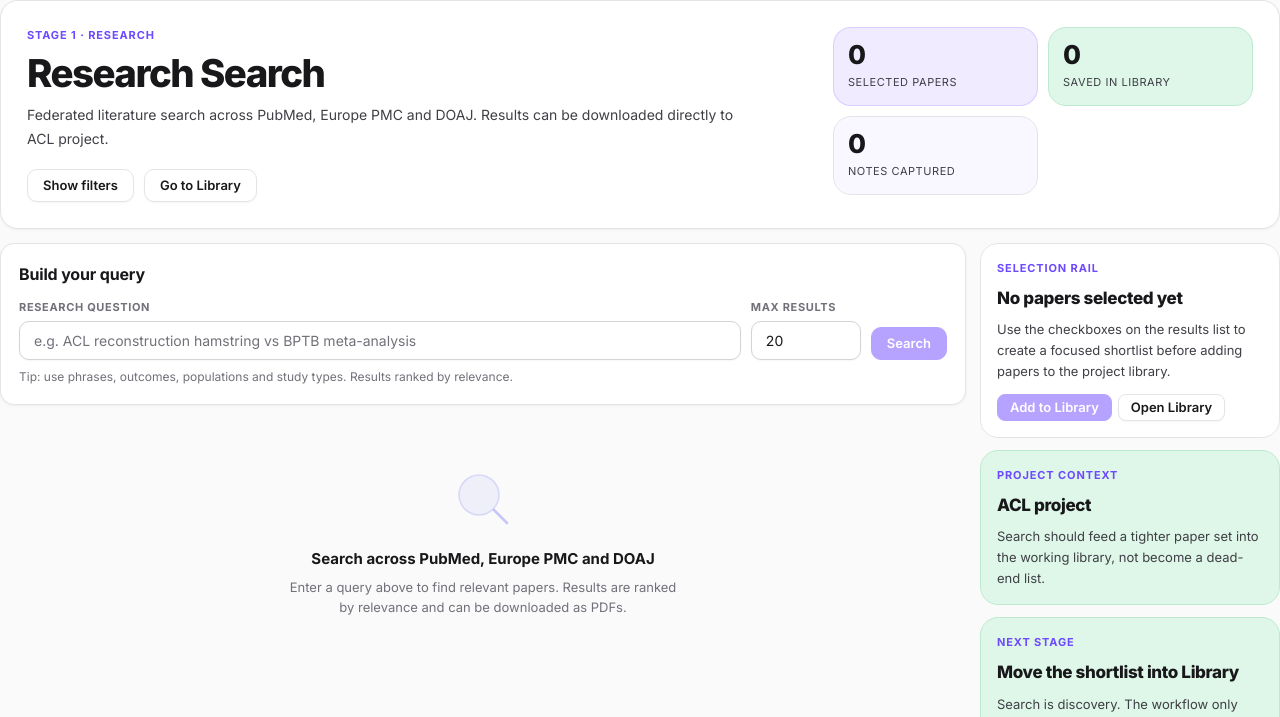
Test: SearchPage — API call › renders all result titles after search
Type "ACL hamstring" into the field with placeholder "e.g. ACL reconstruction hamstring vs BPTB meta-analysis" at (380, 340), box [19,321,741,360]
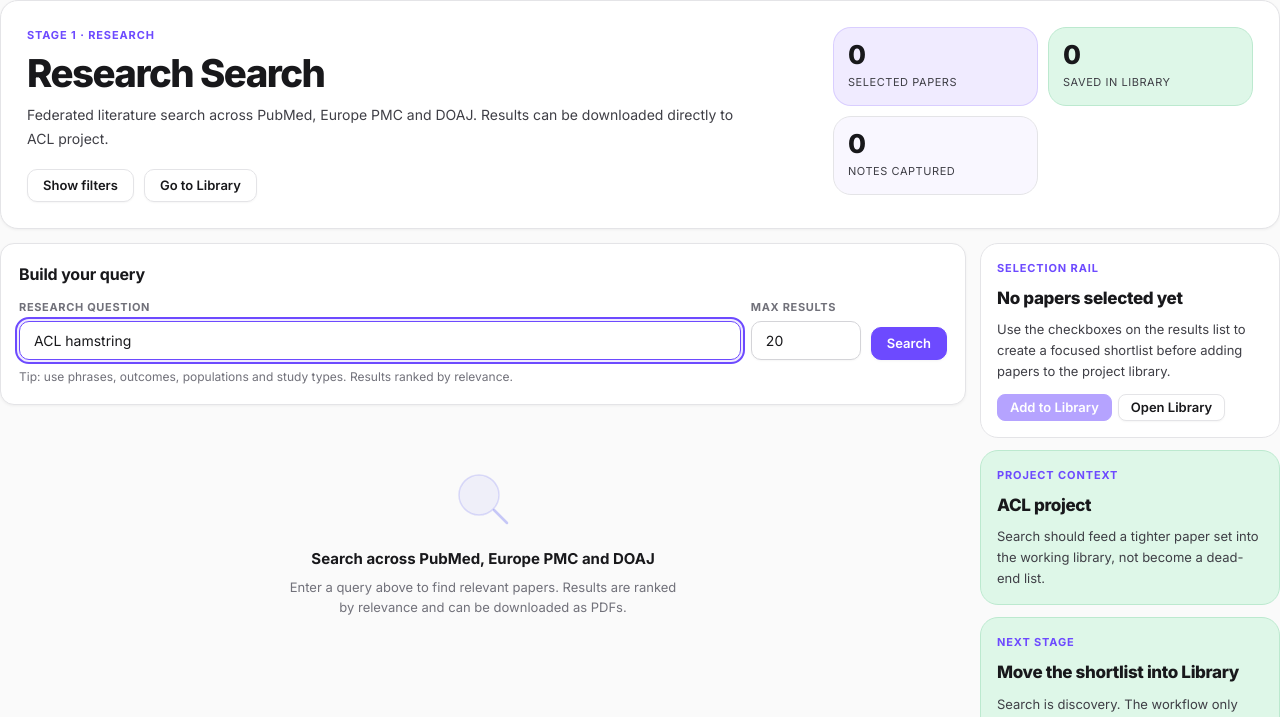
Click the button "Search" at (909, 343), box [871,327,947,360]
(page scrolled)
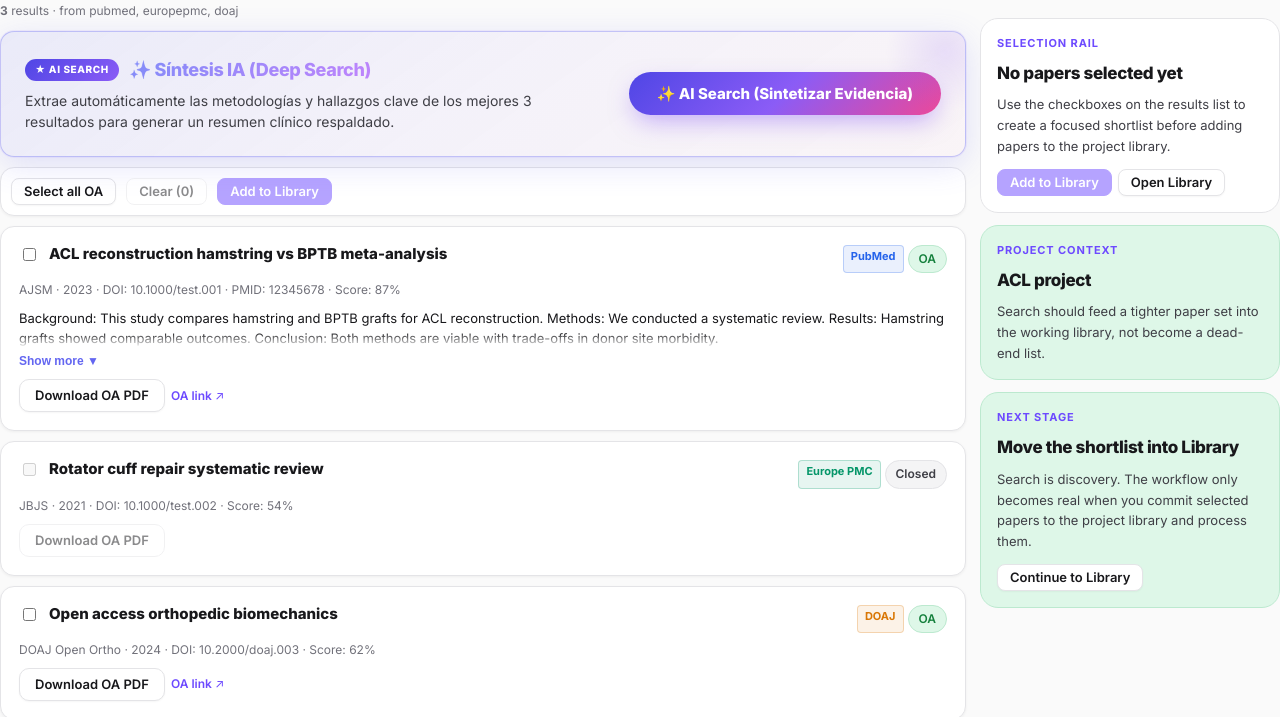
expect the text "ACL reconstruction hamstring vs BPTB meta-analysis" is shown: met, box [49,244,447,263]
expect the text "Rotator cuff repair systematic review" is shown: met, box [49,460,324,478]
expect the text "Open access orthopedic biomechanics" is shown: met, box [49,604,338,623]
